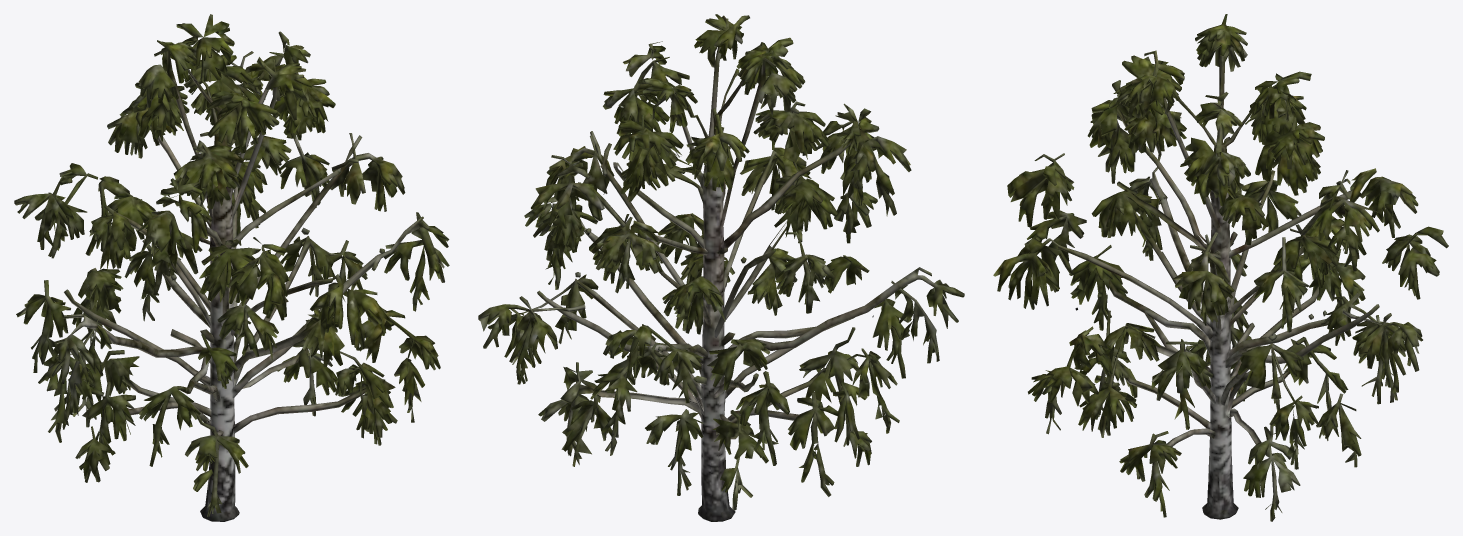
The model's file is birch-mobile.glb.
The picture shows the model from 3 angles, left to right: view 1: azimuth 30°, elevation 25°; view 2: azimuth 150°, elevation 25°; view 3: azimuth 270°, elevation 25°; orthographic projection. The views are drawn at different scales.
Parts seen in each view (by area): view 1: tripo_node_e9322a60-07df-4191-af76-74254d8480a2; view 2: tripo_node_e9322a60-07df-4191-af76-74254d8480a2; view 3: tripo_node_e9322a60-07df-4191-af76-74254d8480a2.
Boxes of the visible parts, x1,y1,x2,y2 form: tripo_node_e9322a60-07df-4191-af76-74254d8480a2: (14, 14, 449, 521); tripo_node_e9322a60-07df-4191-af76-74254d8480a2: (478, 14, 964, 521); tripo_node_e9322a60-07df-4191-af76-74254d8480a2: (993, 14, 1448, 521).
Bounding box in the file's own units: 0.864 × 0.9618 × 0.8451.
1 material, 1 textured.
